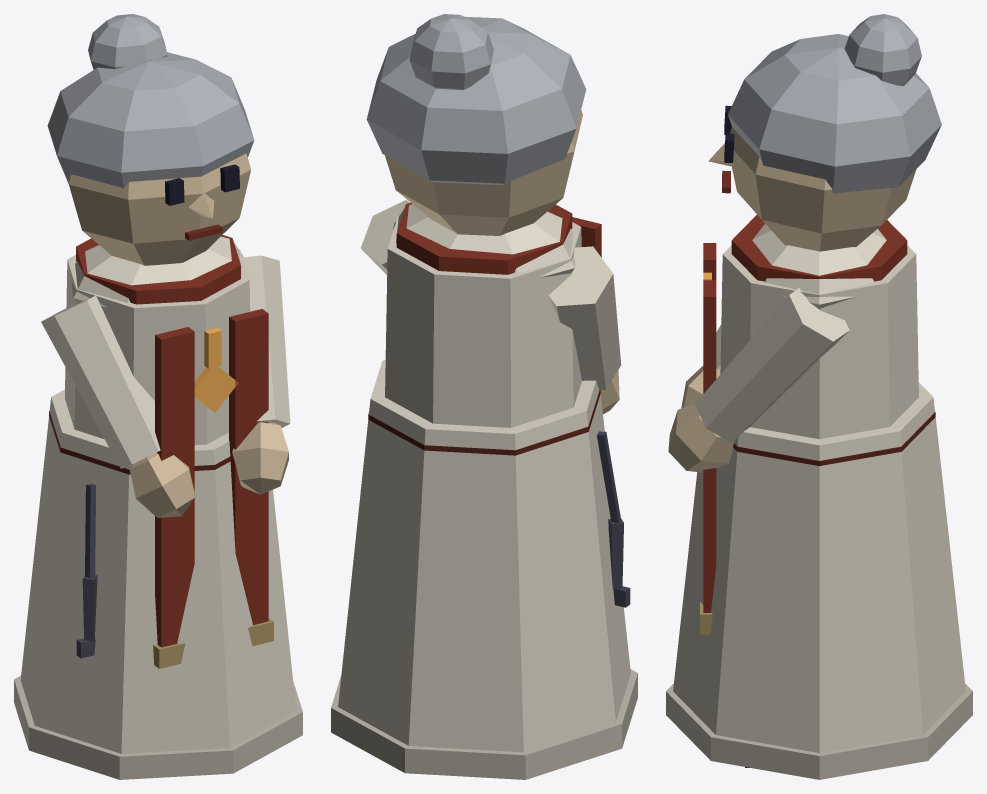
Rendered from provost.glb.
The picture shows the model from 3 angles, left to right: view 1: azimuth 30°, elevation 25°; view 2: azimuth 150°, elevation 25°; view 3: azimuth 270°, elevation 25°; orthographic projection. The views are drawn at different scales.
Parts seen in each view (by area): view 1: Torso, Head, ArmR, ArmL; view 2: Torso, Head, ArmR, ArmL; view 3: Torso, Head, ArmL, ArmR.
Part boxes in pixels (x1=…): Torso: x1=14, y1=235, x2=302, y2=779; Head: x1=47, y1=14, x2=254, y2=265; ArmR: x1=41, y1=294, x2=194, y2=517; ArmL: x1=232, y1=255, x2=290, y2=494; Torso: x1=331, y1=202, x2=637, y2=779; Head: x1=366, y1=14, x2=586, y2=235; ArmR: x1=548, y1=246, x2=621, y2=414; ArmL: x1=361, y1=200, x2=409, y2=275; Torso: x1=666, y1=214, x2=972, y2=779; Head: x1=708, y1=14, x2=941, y2=251; ArmL: x1=668, y1=288, x2=849, y2=472; ArmR: x1=681, y1=324, x2=721, y2=408.
Bounding box in the file's own units: 0.728 × 1.86 × 0.728.
